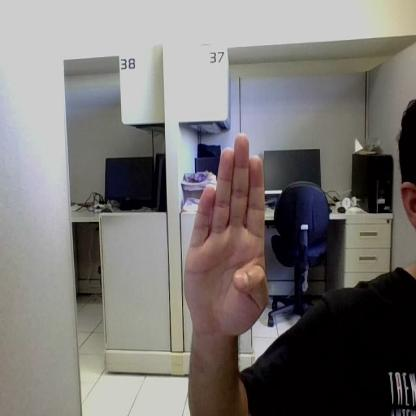B: (183, 132, 267, 325)
